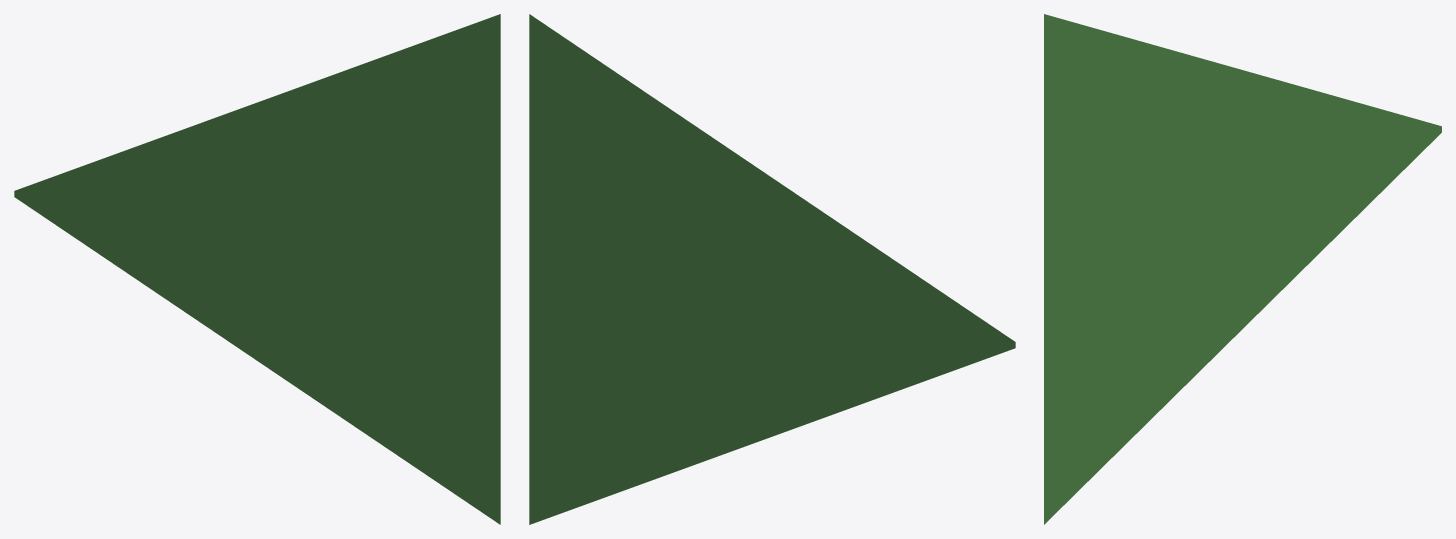
Rendered from ai_neural_activation_ar_universal.glb.
3 views of the same model, side by side, from view 1: azimuth 30°, elevation 25°; view 2: azimuth 210°, elevation 25°; view 3: azimuth 270°, elevation 25° (orthographic).
Parts seen in each view (by area): view 1: ai_neural_activation_ar; view 2: ai_neural_activation_ar; view 3: ai_neural_activation_ar.
Boxes of the visible parts, box(x1,y1,x2,y2) form: ai_neural_activation_ar: box(14, 14, 500, 524); ai_neural_activation_ar: box(529, 14, 1015, 524); ai_neural_activation_ar: box(1044, 14, 1441, 524).
Size of the model in its own units: 0.588 by 1 by 0.7057.
